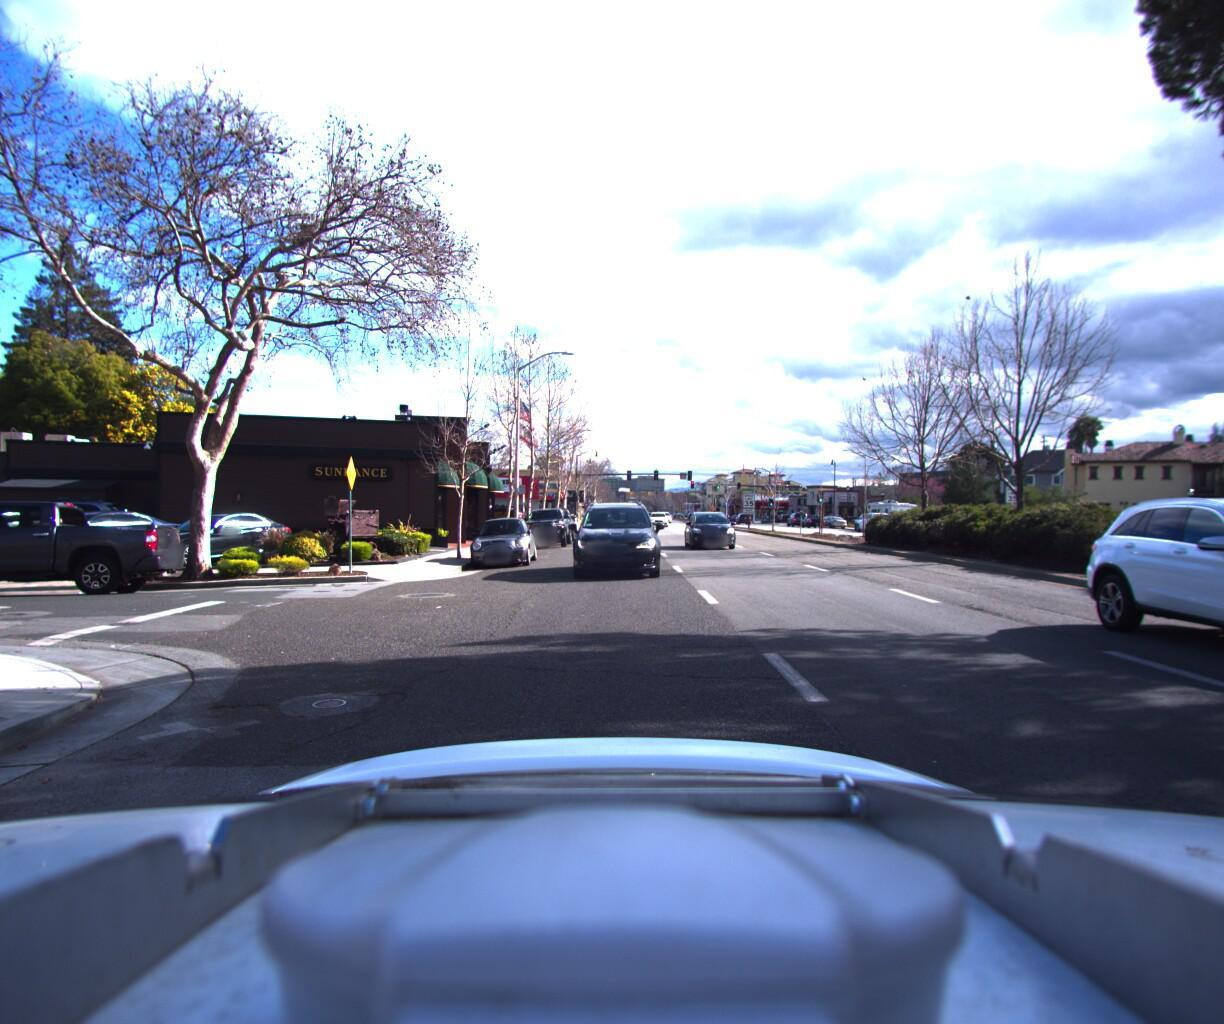car: (0, 495, 191, 608), (1151, 487, 1224, 749), (116, 508, 305, 569), (576, 495, 662, 579), (0, 497, 71, 570), (469, 513, 537, 566), (685, 505, 743, 552), (519, 504, 572, 548), (538, 505, 576, 540), (648, 506, 669, 526)
other_vehicle: (861, 494, 919, 532)
